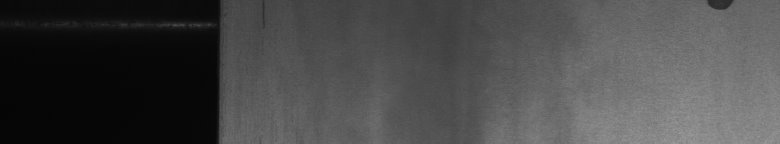fi: (704, 4, 732, 20)
